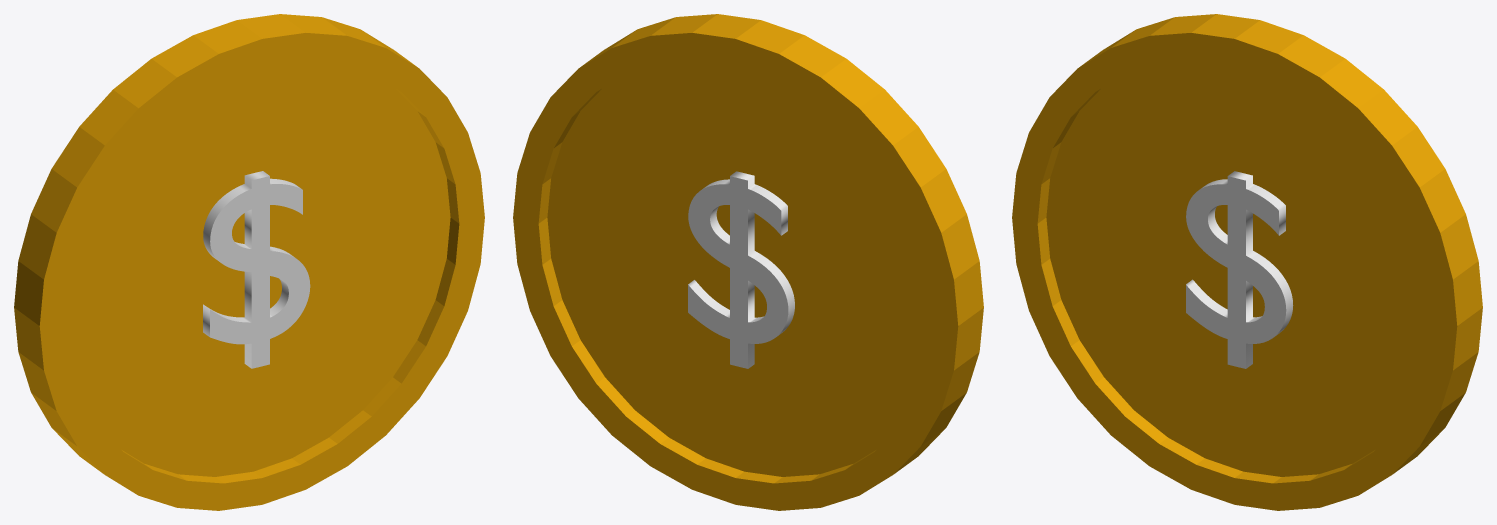
Rendered from Coin.fbx.
The picture shows the model from 3 angles, left to right: view 1: azimuth 30°, elevation 25°; view 2: azimuth 150°, elevation 25°; view 3: azimuth 330°, elevation 25°; orthographic projection.
Parts seen in each view (by area): view 1: Cylinder; view 2: Cylinder; view 3: Cylinder.
Boxes of the visible parts, bbox=[...] form: Cylinder: bbox=[14, 14, 484, 510]; Cylinder: bbox=[513, 14, 983, 510]; Cylinder: bbox=[1012, 14, 1482, 510].
Size of the model in its own units: 200 by 200 by 20.
